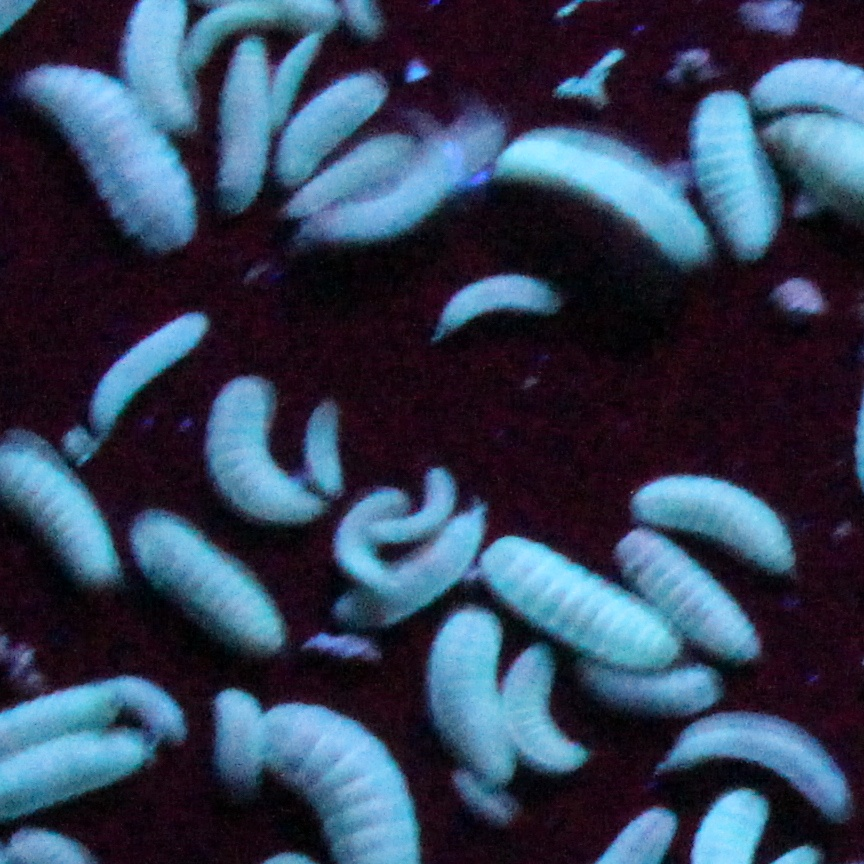larve: (504, 121, 721, 263), (23, 69, 181, 238), (293, 115, 503, 242), (480, 544, 684, 663), (613, 537, 763, 660), (131, 512, 276, 636), (426, 591, 512, 782), (83, 299, 195, 439), (689, 720, 851, 813), (352, 513, 487, 618), (213, 380, 313, 521), (189, 43, 263, 222), (263, 75, 379, 189), (627, 490, 800, 563), (694, 89, 774, 235), (430, 268, 567, 342), (285, 132, 409, 213), (560, 656, 721, 717), (510, 643, 578, 768), (253, 26, 319, 145), (324, 481, 400, 582), (204, 688, 282, 773), (368, 473, 450, 545), (297, 406, 350, 499)
